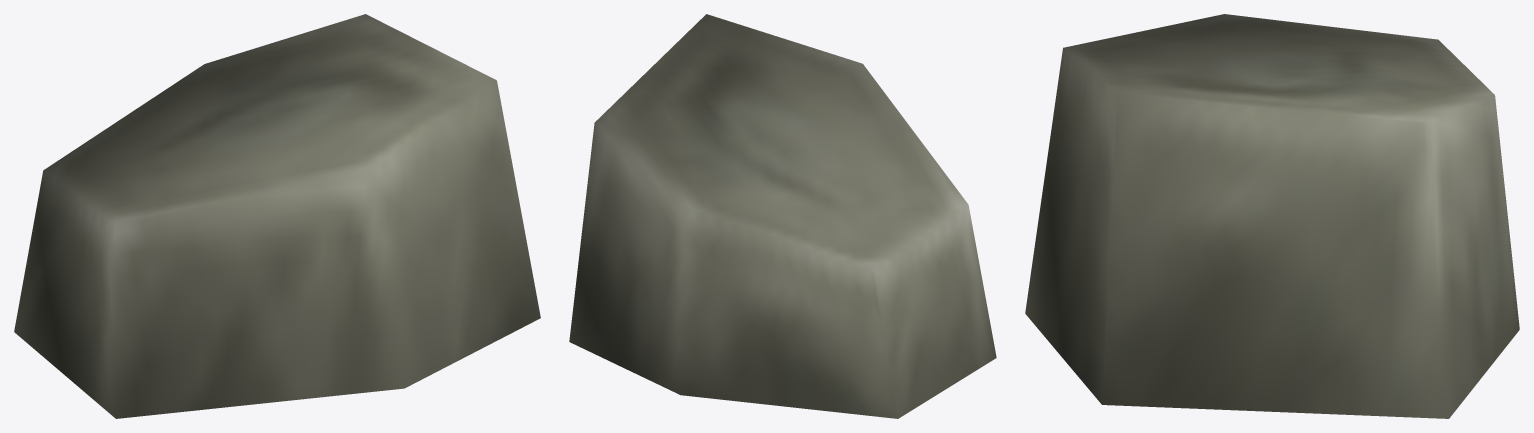
The model's file is forget_Stone07.FBX.
The picture shows the model from 3 angles, left to right: view 1: azimuth 30°, elevation 25°; view 2: azimuth 150°, elevation 25°; view 3: azimuth 270°, elevation 25°; orthographic projection. The views are drawn at different scales.
Visible parts, largest first — view 1: forget_Stone07; view 2: forget_Stone07; view 3: forget_Stone07.
Part boxes in pixels (bbox=[...]): forget_Stone07: bbox=[14, 14, 540, 418]; forget_Stone07: bbox=[569, 14, 996, 418]; forget_Stone07: bbox=[1025, 14, 1519, 418].
Size of the model in its own units: 94.52 by 63.71 by 87.15.
